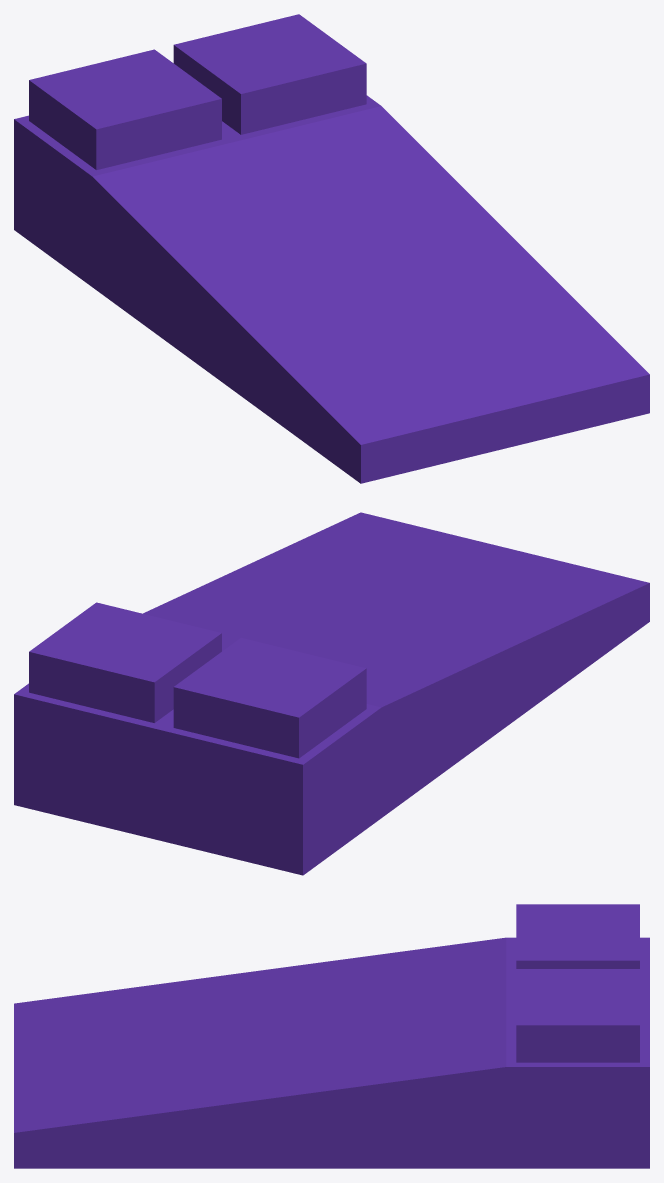
The model's file is Lego_Part_21.fbx.
3 renders of one model, top to bottom at view 1: azimuth 30°, elevation 25°; view 2: azimuth 150°, elevation 25°; view 3: azimuth 270°, elevation 25°, orthographic. The views are drawn at different scales.
Visible parts, largest first — view 1: Lego_Part_21; view 2: Lego_Part_21; view 3: Lego_Part_21.
Boxes of the visible parts, x1=… form: Lego_Part_21: x1=14, y1=14, x2=649, y2=483; Lego_Part_21: x1=14, y1=512, x2=649, y2=875; Lego_Part_21: x1=14, y1=904, x2=649, y2=1168.
Size of the model in its own units: 3.09 by 1.55 by 6.43.
1 material, 1 textured.
